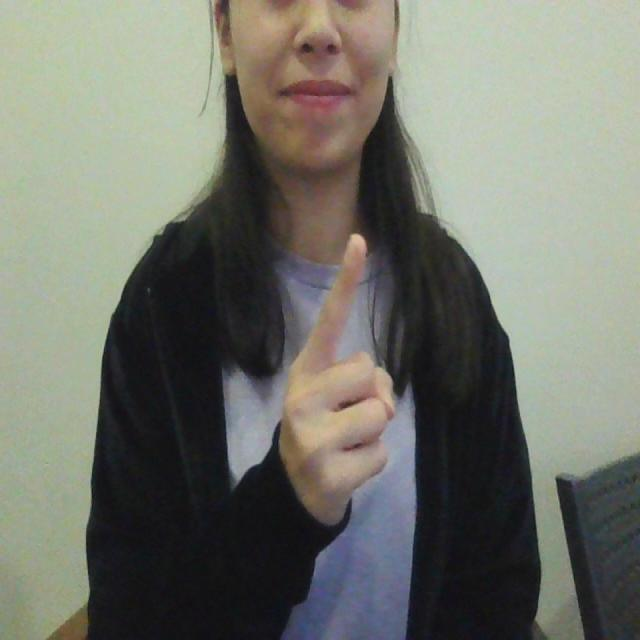Hayir: (229, 208, 399, 560)
